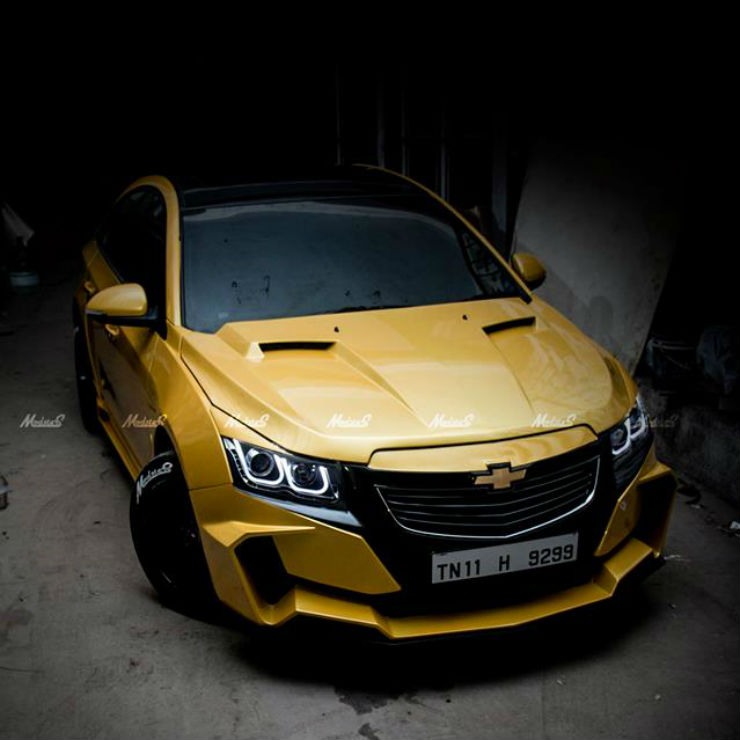number_plate: (418, 533, 591, 587)
